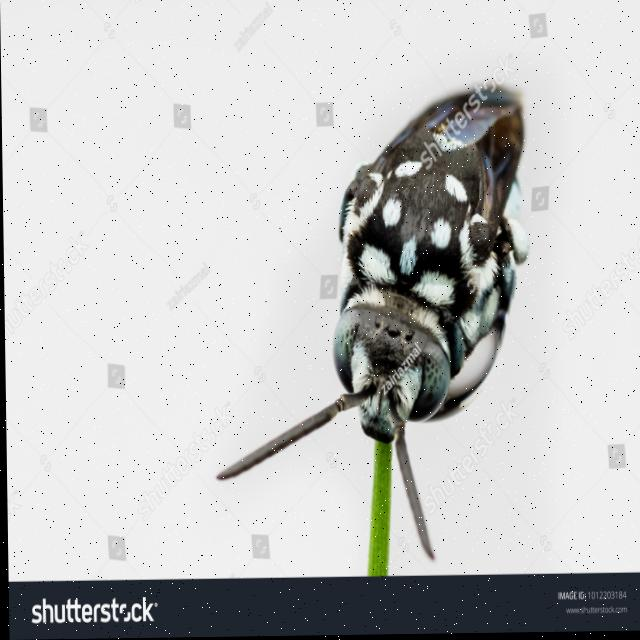Thyreus: (208, 73, 547, 567)
